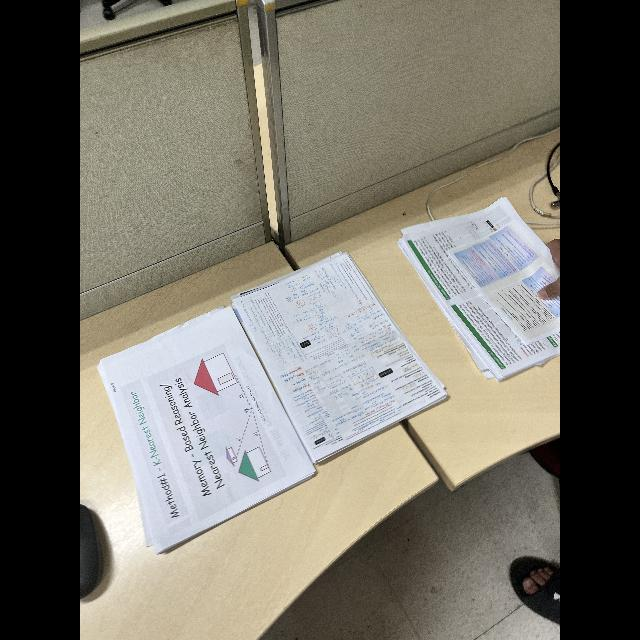reuseable_paper: (96, 249, 446, 555), (394, 192, 560, 384)
